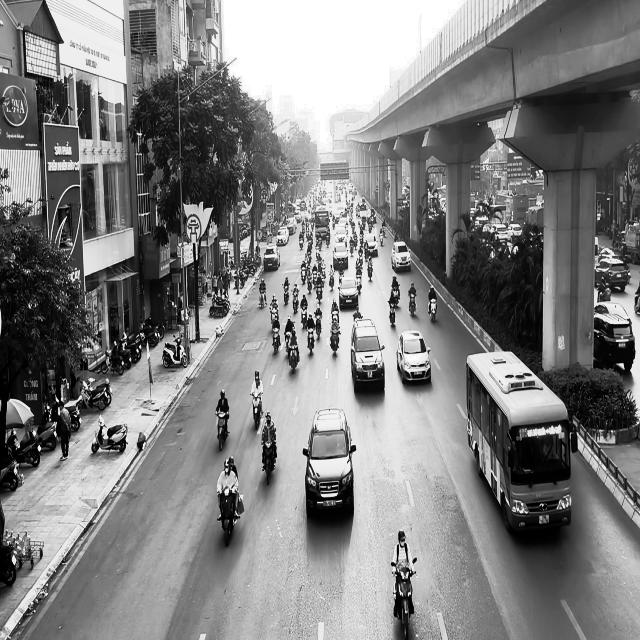bus: (465, 350, 572, 534)
car: (303, 407, 357, 517), (593, 301, 636, 372), (350, 317, 386, 393), (397, 329, 431, 384), (391, 240, 411, 272)
motorbike: (391, 558, 417, 638), (91, 415, 128, 454), (217, 486, 240, 546), (261, 438, 277, 485), (215, 410, 229, 451), (250, 390, 263, 430), (428, 298, 437, 322), (408, 293, 416, 316)
